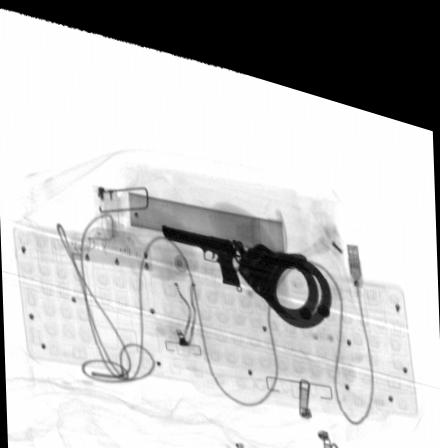Gun: (161, 214, 243, 272)
HandCuffs: (229, 224, 333, 313)
